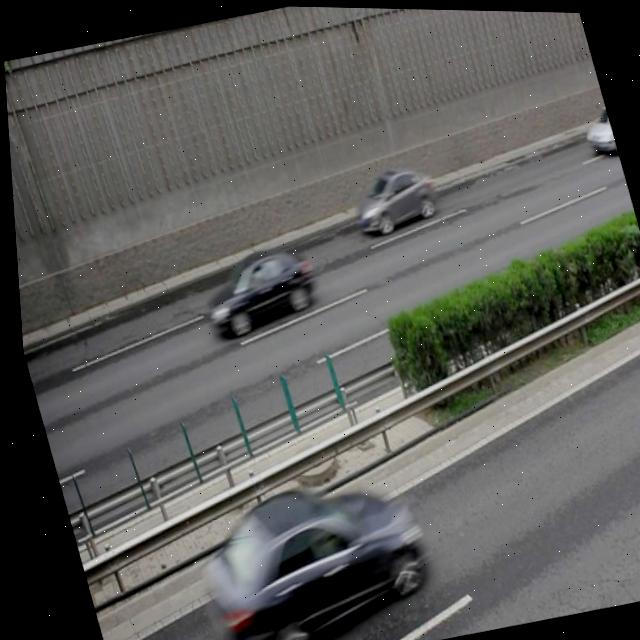car: (173, 459, 442, 640), (187, 239, 323, 341), (341, 155, 439, 233), (573, 97, 615, 151)
